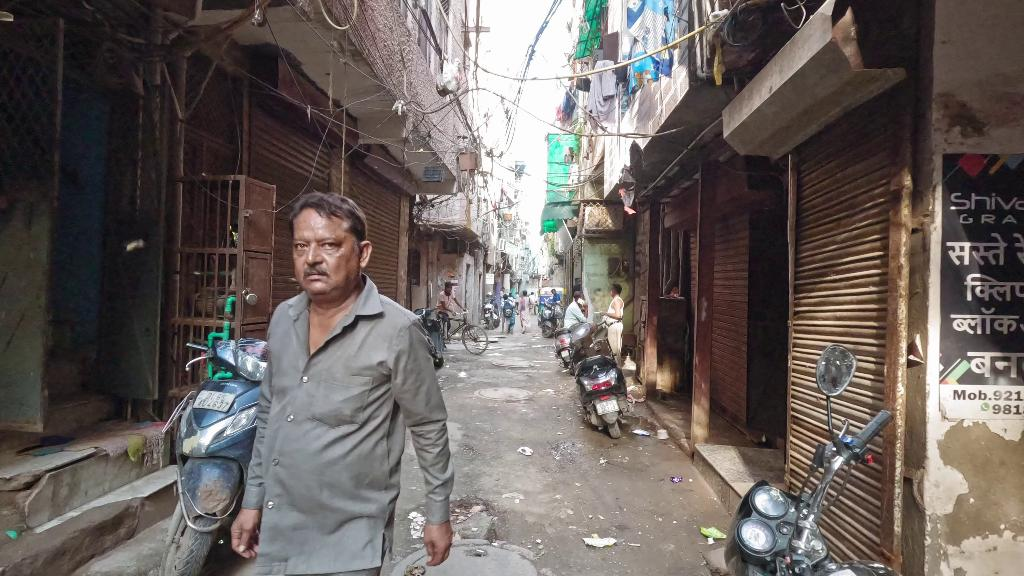garbage: (442, 58, 463, 93), (582, 535, 619, 549), (700, 524, 727, 541)
